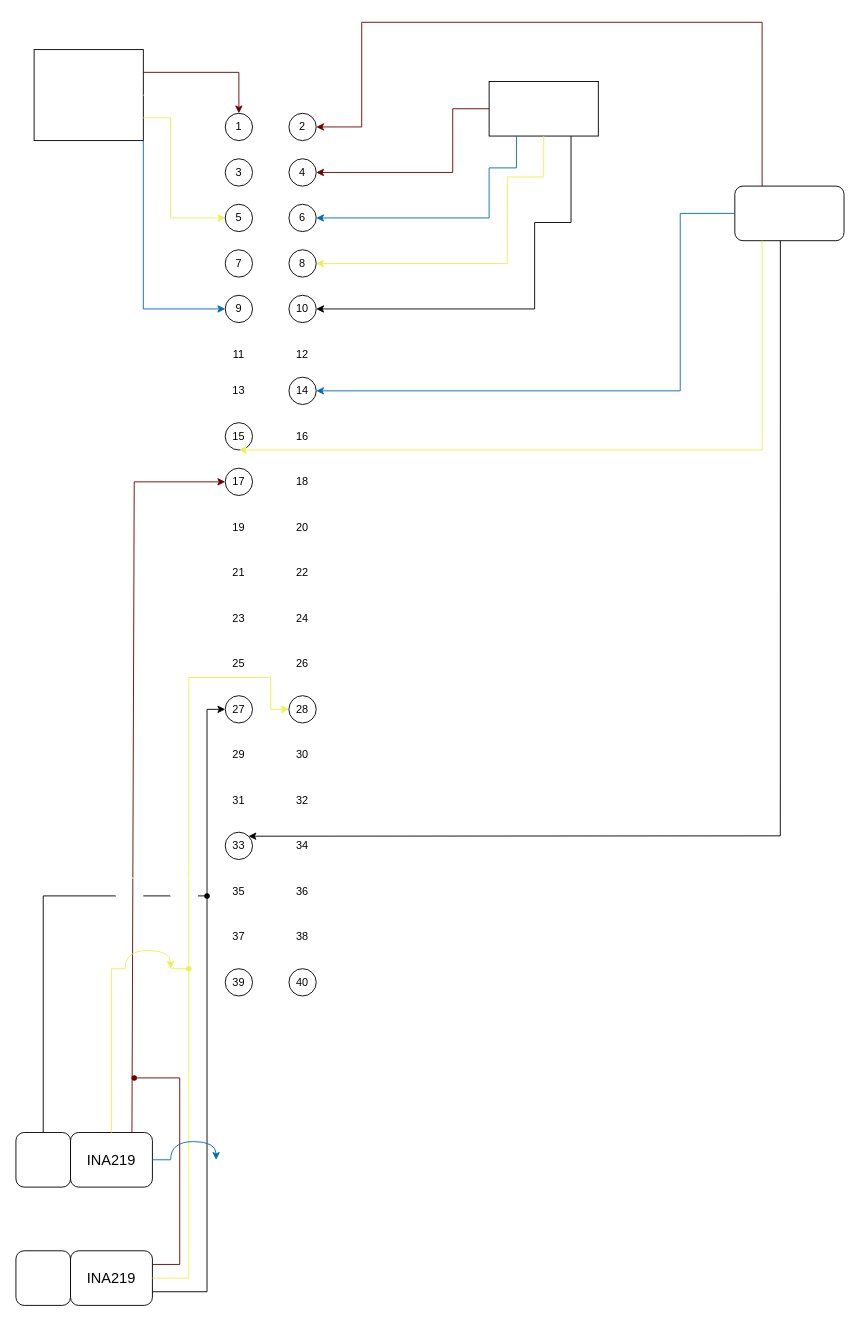
This 860x1321 diagram has some shape labels left out. Each missing label, with the centre of its shape:
b/w Battery & Ordroid: the point at 43,1159
b/w Solar or Battery: the point at 43,1277
IPS7100: the point at 543,108
Light + BME + ETC: the point at 88,95
Rain Sensor: the point at 789,213
